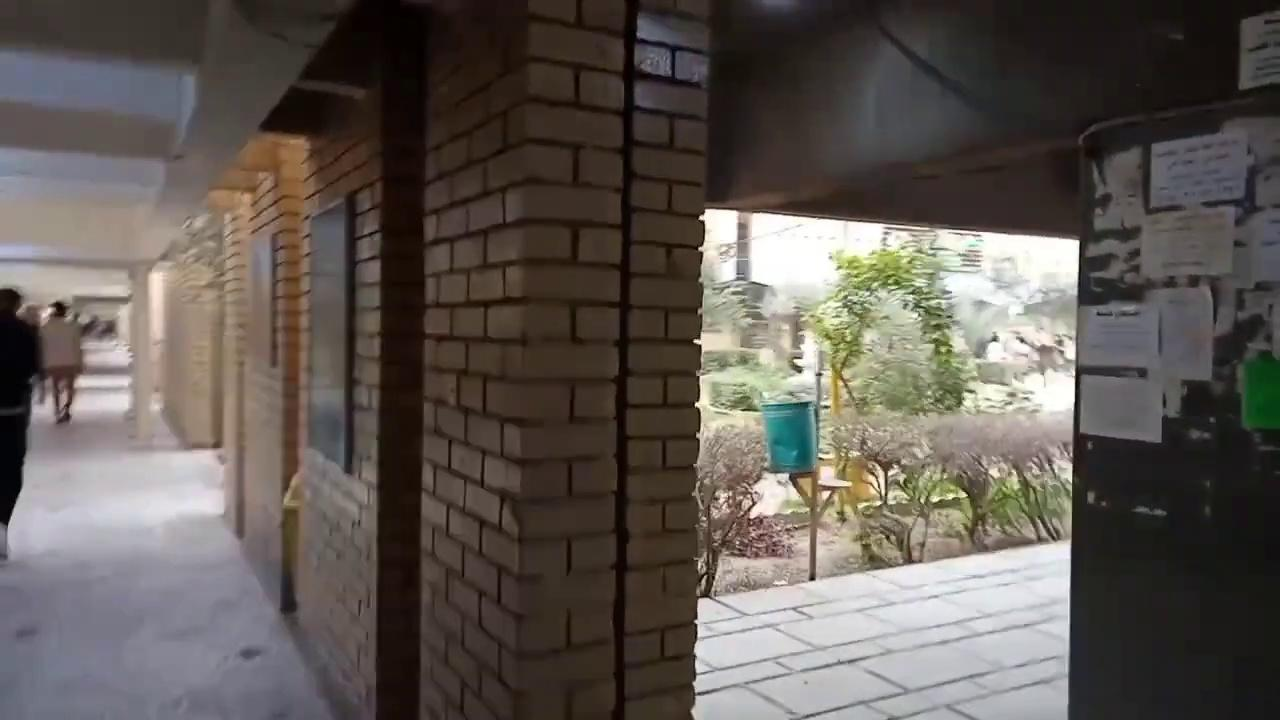person: (0, 287, 43, 560), (39, 300, 82, 423)
tree: (794, 230, 980, 562), (694, 418, 768, 598)
